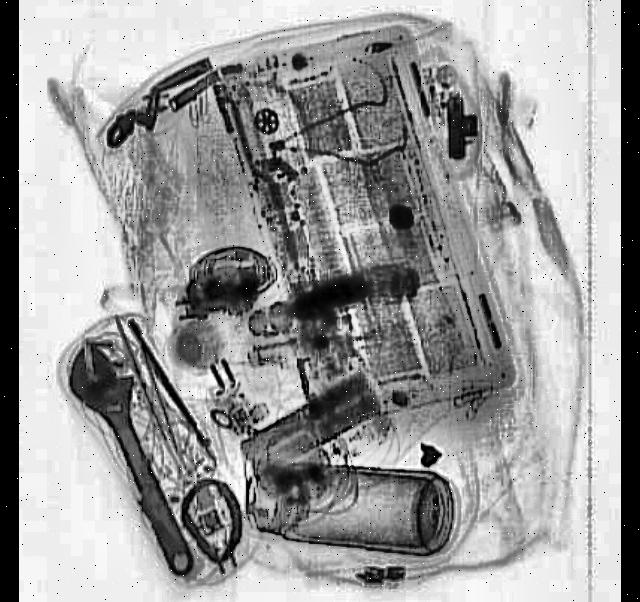Wrench: (60, 325, 220, 585)
